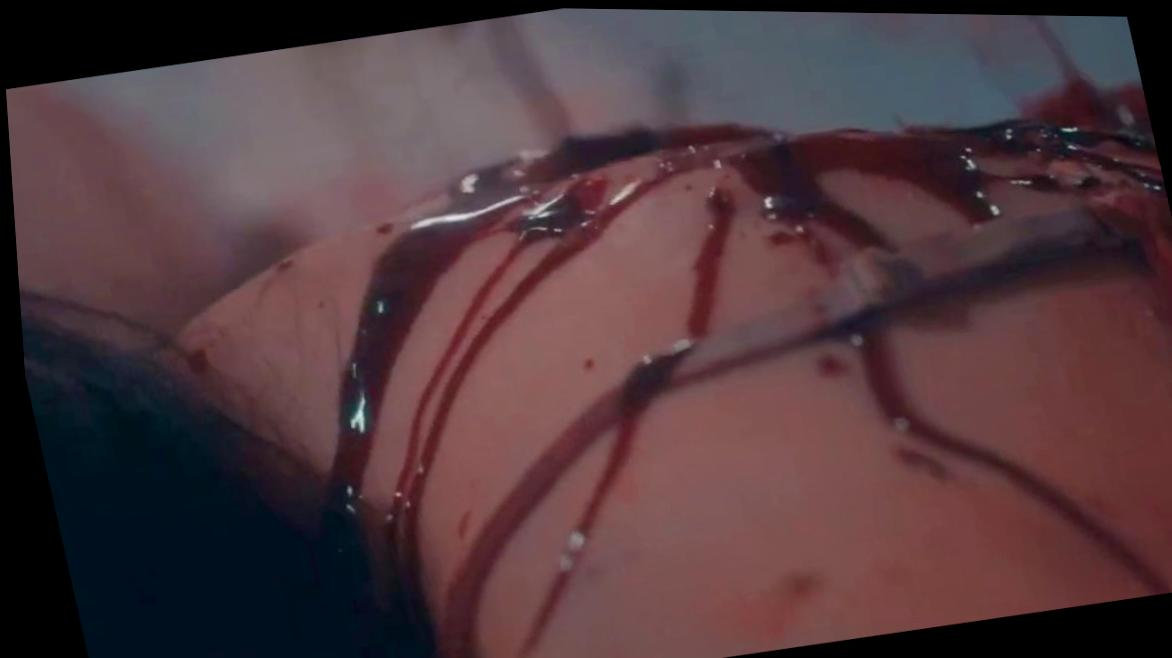Fire: (152, 12, 1172, 658)
